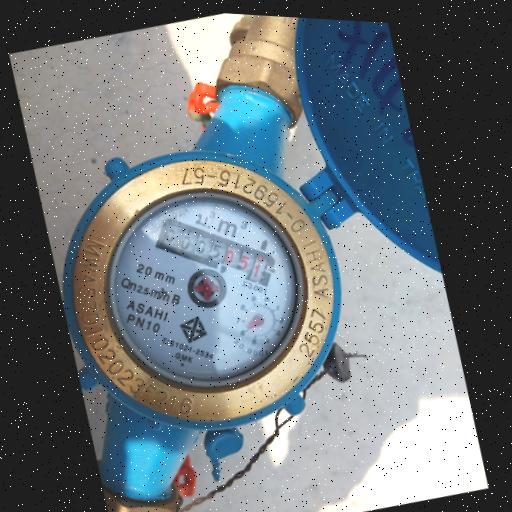0: (157, 219, 189, 253), (172, 225, 204, 258), (188, 231, 219, 263), (217, 242, 246, 272)
1: (242, 251, 273, 287)
5: (232, 247, 262, 278), (202, 237, 231, 268)
border_water_meter_number: (145, 191, 285, 313)
